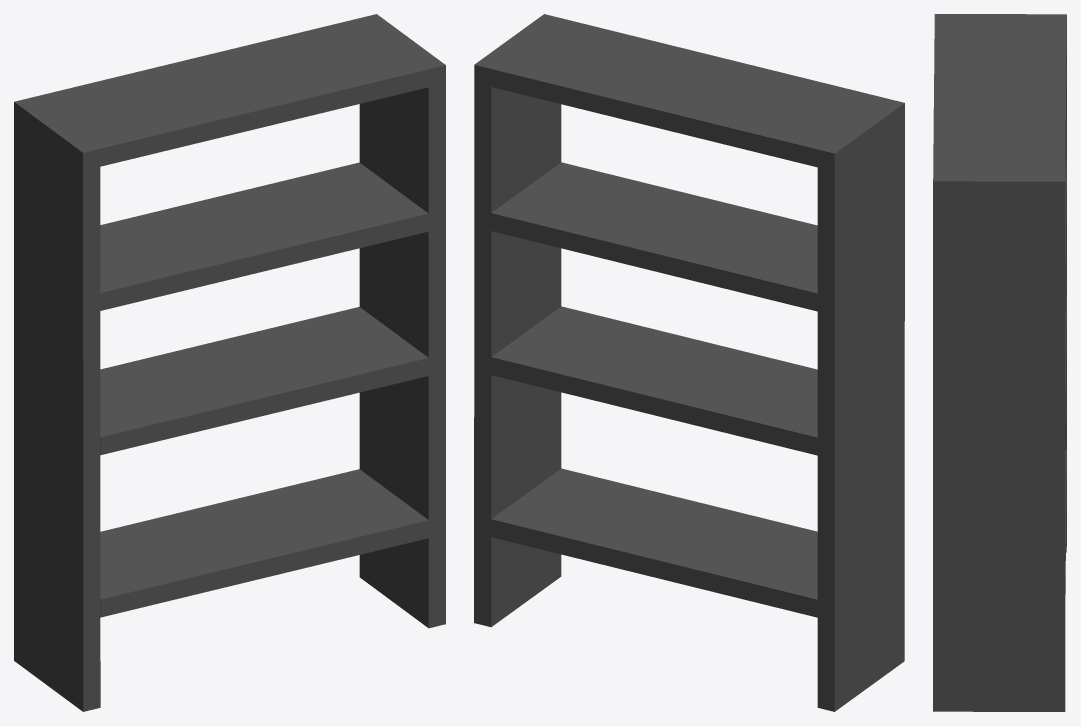
The model's file is kedungdo.fbx.
The picture shows the model from 3 angles, left to right: view 1: azimuth 30°, elevation 25°; view 2: azimuth 150°, elevation 25°; view 3: azimuth 270°, elevation 25°; orthographic projection. The views are drawn at different scales.
Parts seen in each view (by area): view 1: kedungdo; view 2: kedungdo; view 3: kedungdo.
Part boxes in pixels (<box>): kedungdo: <box>14,14,445,711</box>; kedungdo: <box>474,14,904,711</box>; kedungdo: <box>933,14,1066,711</box>.
Size of the model in its own units: 174 by 257 by 58.74.
1 material, 1 textured.
